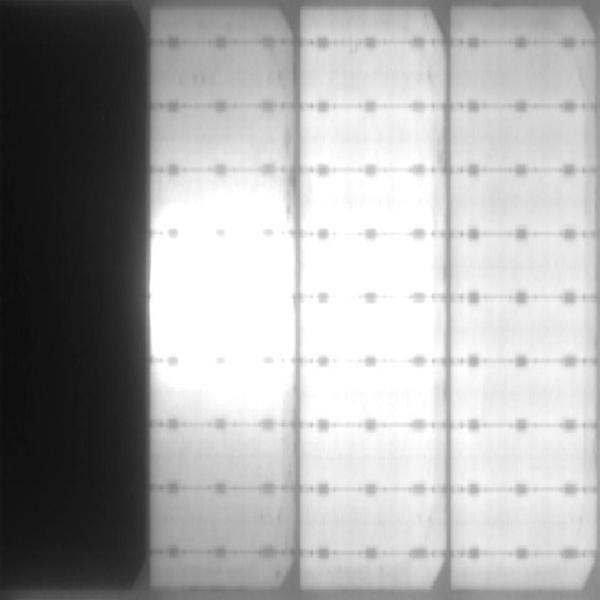hot_spot: (152, 240, 293, 355), (151, 363, 294, 420), (304, 367, 436, 420), (304, 303, 439, 353), (307, 179, 435, 231), (306, 240, 438, 290), (166, 199, 285, 227)
no_electricity: (1, 3, 149, 595)
